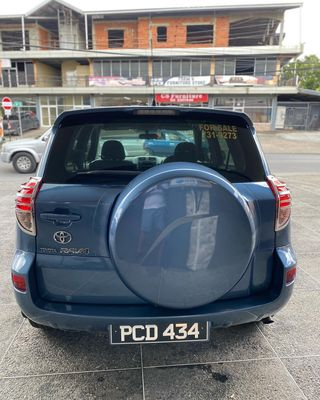License-Plate: (111, 324, 205, 342)
